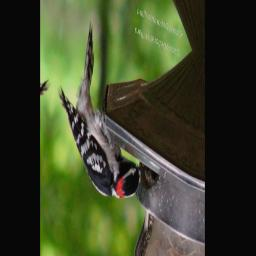Woodpecker: (47, 7, 160, 218)
